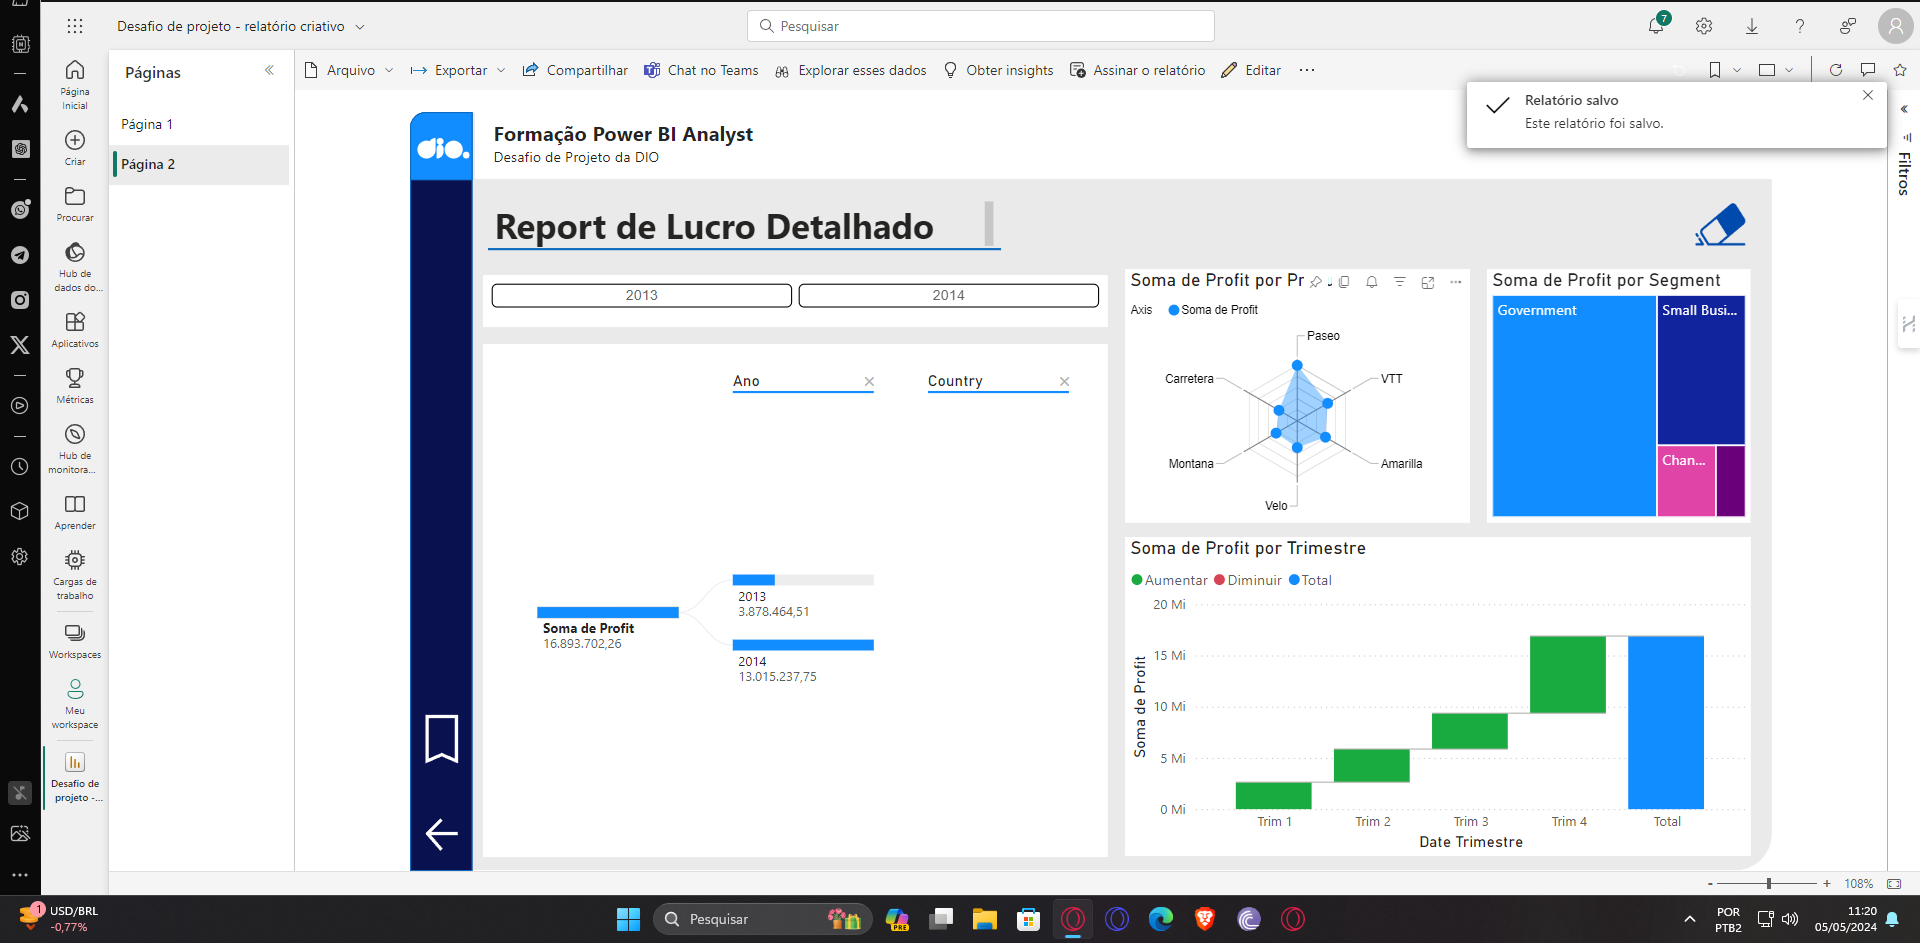

What the dashboard file says about the page in this screenshot:
{"tool":"powerbi","page":{"name":"Página 2","canvas":[1280,720],"ordinal":1},"visuals":[{"type":"shape","box":[42.6,20.7,1225.3,699.3],"z":0},{"type":"shape","box":[83.9,127.8,473,37.1],"z":0,"group":"g1"},{"type":"textbox","box":[85.3,97.6,470.2,52.2],"z":1000,"group":"g1"},{"type":"shape","box":[12.4,20.2,57.7,699.8],"z":1000},{"type":"shape","box":[12.4,20.6,57.7,63.2],"z":2000},{"type":"image","box":[13.7,33,57.7,39.9],"z":3000},{"type":"image","title":"clean","box":[1192,96,56,56],"z":3000},{"type":"shape","title":"Fundo do Título","box":[71.5,20.6,1198.9,61.9],"z":4000},{"type":"textbox","title":"Título do report","box":[83.9,22,378.1,63.2],"z":5000},{"type":"shape","box":[79.7,233.7,576.1,473],"z":6000},{"type":"decompositionTreeVisual","fields":{"Analyze":["Sum(financials.Profit)"],"ExplainBy":["financials.Date.Variation.Hierarquia de datas.Ano","financials.Country"]},"box":[99.8,242.2,536.3,456.5],"z":7000},{"type":"waterfallChart","fields":{"Category":["financials.Date.Variation.Hierarquia de datas.Trimestre"],"Y":["Sum(financials.Profit)"]},"box":[670.9,412.5,577.4,294.2],"z":8000},{"type":"ChicletSlicer1448559807354","fields":{"Category":["financials.Date.Variation.Hierarquia de datas.Ano"]},"box":[79.7,170.5,576.1,48.1],"z":9000},{"type":"RadarChart1446119667547","fields":{"Category":["financials.Product"],"Y":["Sum(financials.Profit)"]},"box":[670.9,165,317.6,233.7],"z":10000},{"type":"treemap","fields":{"Values":["Sum(financials.Profit)"],"Group":["financials.Segment"]},"box":[1005,165,243.4,233.7],"z":11000},{"type":"actionButton","box":[22,666.8,48.1,39.9],"z":12000},{"type":"group","id":"g1","title":"Sales report","box":[83.9,97.6,473,67.4],"z":13000},{"type":"actionButton","box":[12.8,545.8,57,105.5],"z":14000}]}

Visuals, with their boxes on the page's 1280x720 design canvas (x1, y1, x2, y2). These are canvas units, not pixel positions in the 1920x943 screenshot, which may show the page scaled, cropped or inside an application window:
shape: bbox=(43, 21, 1268, 720)
shape: bbox=(84, 128, 557, 165)
textbox: bbox=(85, 98, 556, 150)
shape: bbox=(12, 20, 70, 720)
shape: bbox=(12, 21, 70, 84)
image: bbox=(14, 33, 71, 73)
"clean" image: bbox=(1192, 96, 1248, 152)
"Fundo do Título" shape: bbox=(72, 21, 1270, 82)
"Título do report" textbox: bbox=(84, 22, 462, 85)
shape: bbox=(80, 234, 656, 707)
decompositionTreeVisual - Sum(financials.Profit) x financials.Date.Variation.Hierarquia de datas.Ano: bbox=(100, 242, 636, 699)
waterfallChart - financials.Date.Variation.Hierarquia de datas.Trimestre x Sum(financials.Profit): bbox=(671, 412, 1248, 707)
ChicletSlicer1448559807354 - financials.Date.Variation.Hierarquia de datas.Ano: bbox=(80, 170, 656, 219)
RadarChart1446119667547 - financials.Product x Sum(financials.Profit): bbox=(671, 165, 988, 399)
treemap - Sum(financials.Profit) x financials.Segment: bbox=(1005, 165, 1248, 399)
actionButton: bbox=(22, 667, 70, 707)
"Sales report" group: bbox=(84, 98, 557, 165)
actionButton: bbox=(13, 546, 70, 651)
